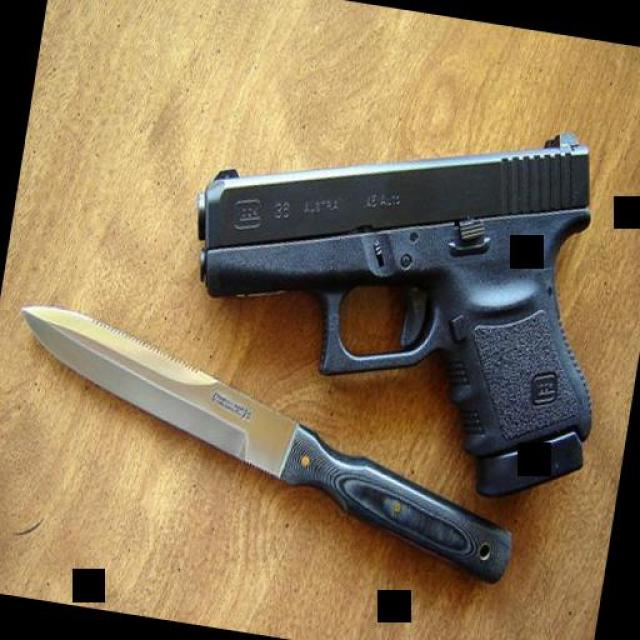gun: (153, 66, 635, 510)
